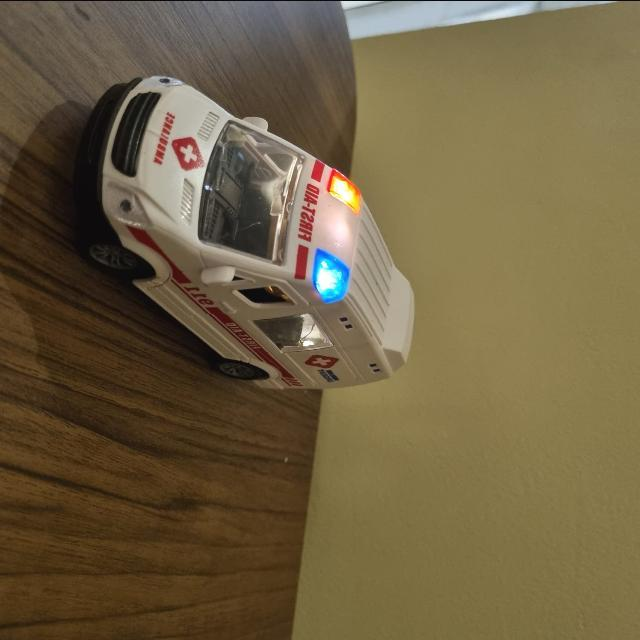emergency-vehicle: (84, 74, 416, 388)
